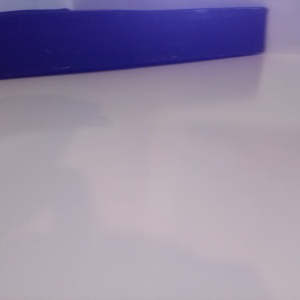zone: (1, 6, 267, 81)
